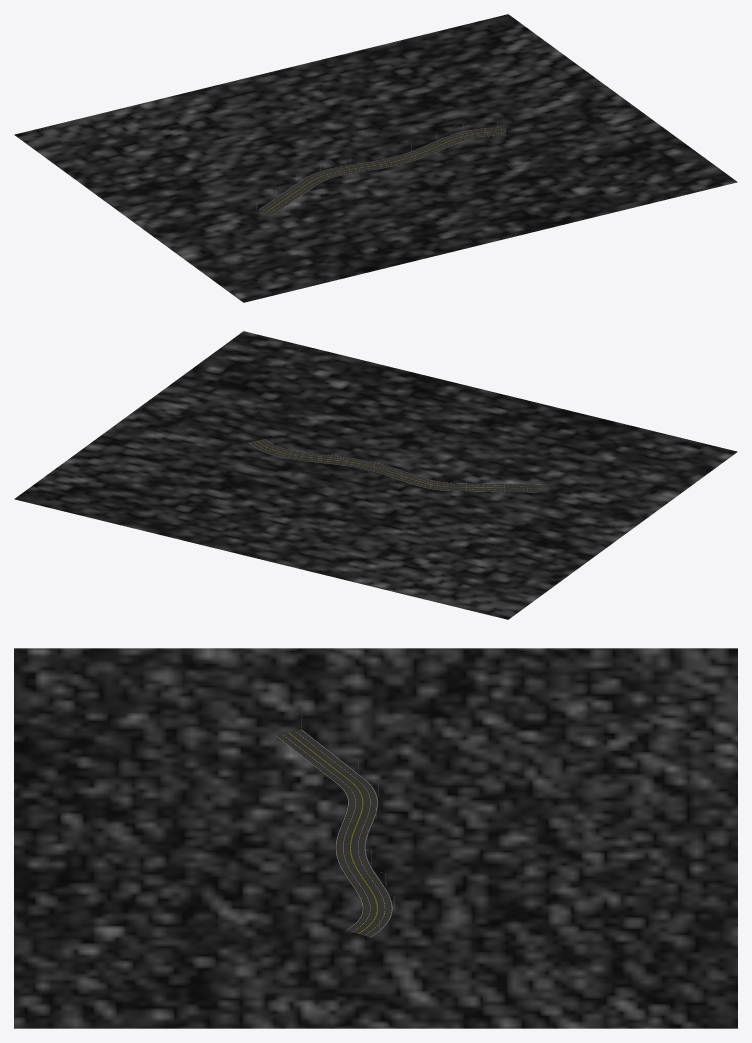
The model's file is highway.obj.
3 renders of one model, top to bottom at view 1: azimuth 30°, elevation 25°; view 2: azimuth 150°, elevation 25°; view 3: azimuth 270°, elevation 25°, orthographic. The views are drawn at different scales.
Parts seen in each view (by area): view 1: Cube, Plane; view 2: Cube, Plane; view 3: Cube, Plane.
Part boxes in pixels (left/top/right/bottom): Cube: left=14, top=14, right=737, bottom=302; Plane: left=258, top=127, right=506, bottom=213; Cube: left=14, top=331, right=737, bottom=619; Plane: left=248, top=439, right=540, bottom=492; Cube: left=14, top=648, right=737, bottom=1028; Plane: left=276, top=729, right=392, bottom=937.
Bounding box in the file's own units: 50.2 × 0.9312 × 40.4.
Materials: 4 (2 with a texture image).
